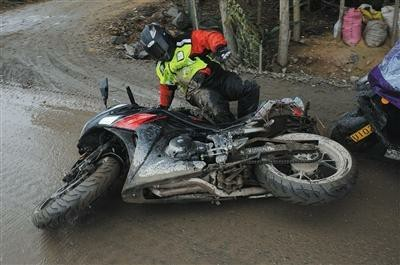fall: (130, 18, 274, 133)
